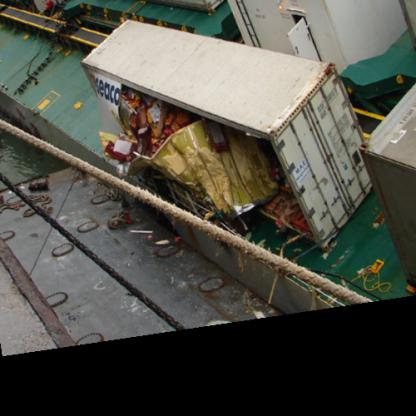Damage: (84, 69, 302, 235)
